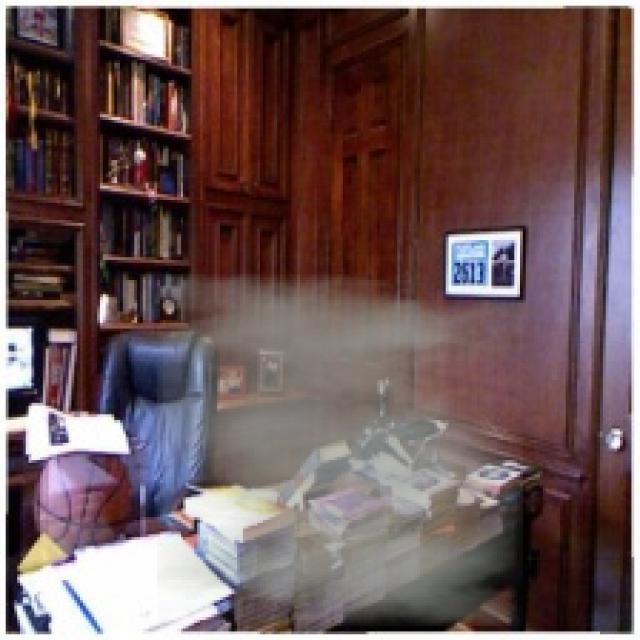Smoke: (157, 274, 523, 626)
